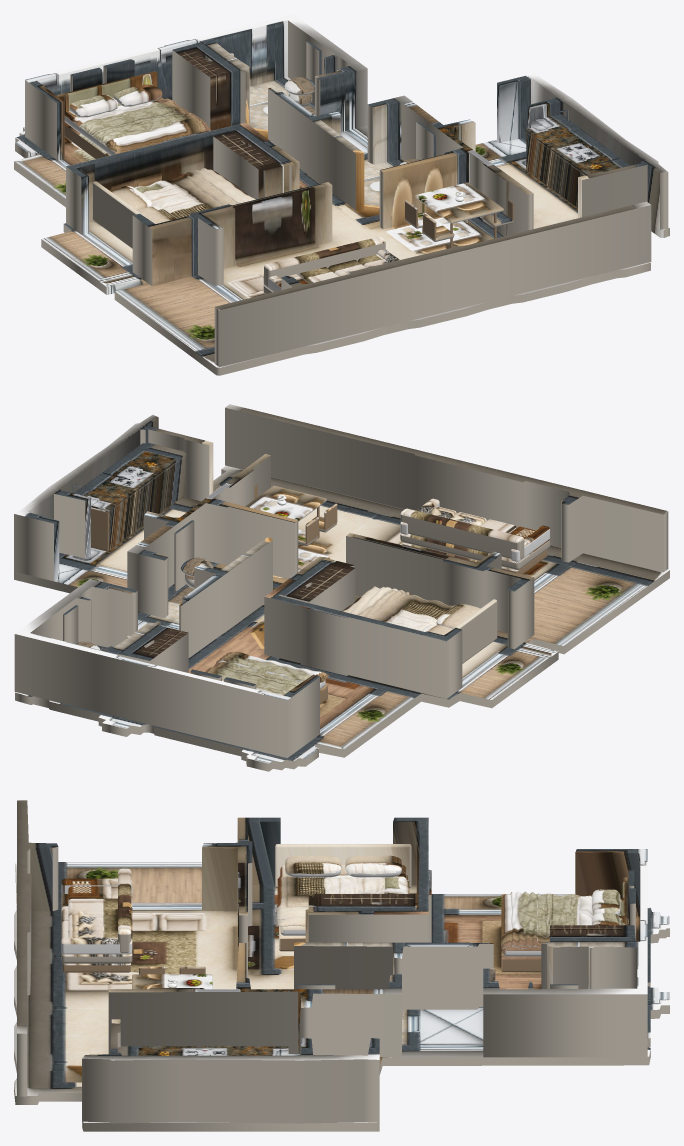
The model's file is p13-01-u01-2112-image-model.glb.
The picture shows the model from 3 angles, top to bottom: view 1: azimuth 30°, elevation 25°; view 2: azimuth 150°, elevation 25°; view 3: azimuth 270°, elevation 25°; orthographic projection. The views are drawn at different scales.
Parts seen in each view (by area): view 1: Partition walls, Apartment floor, Draped bed linen, Draped bed linen.002, Sofa back, Kitchen cabinets, Marble dining top, Stone worktop, Upholstered headboard.001, Draped bed linen.001, Upholstered headboard, Draped bed linen.003 (+6 smaller); view 2: Partition walls, Apartment floor, Kitchen cabinets, Sofa back, Stone worktop, Draped bed linen.002, Marble dining top, Draped bed linen, Upholstered headboard.001, Upholstered sofa frame, Draped bed linen.001, Draped bed linen.003 (+4 smaller); view 3: Partition walls, Apartment floor, Draped bed linen.002, Draped bed linen, Upholstered headboard.001, Stone worktop, Draped bed linen.001, Tailored pillow.002, Tailored pillow.003, Upholstered sofa frame, Sofa back, Padded armrest.001 (+10 smaller).
Part boxes in pixels (bbox=[...]): Partition walls: bbox=[25, 14, 668, 367]; Apartment floor: bbox=[14, 77, 669, 375]; Draped bed linen: bbox=[74, 98, 210, 152]; Draped bed linen.002: bbox=[134, 169, 255, 218]; Sofa back: bbox=[264, 236, 385, 286]; Kitchen cabinets: bbox=[526, 133, 584, 208]; Marble dining top: bbox=[415, 182, 503, 223]; Stone worktop: bbox=[525, 125, 630, 175]; Upholstered headboard.001: bbox=[93, 181, 148, 248]; Draped bed linen.001: bbox=[98, 112, 206, 148]; Upholstered headboard: bbox=[57, 71, 157, 112]; Draped bed linen.003: bbox=[179, 168, 249, 205]; Partition walls: bbox=[14, 404, 668, 758]; Apartment floor: bbox=[14, 465, 669, 771]; Kitchen cabinets: bbox=[91, 456, 185, 551]; Sofa back: bbox=[400, 508, 524, 559]; Stone worktop: bbox=[81, 443, 186, 511]; Draped bed linen.002: bbox=[341, 586, 455, 630]; Marble dining top: bbox=[245, 485, 326, 521]; Draped bed linen: bbox=[205, 652, 329, 695]; Upholstered headboard.001: bbox=[449, 599, 497, 663]; Upholstered sofa frame: bbox=[400, 533, 550, 570]; Draped bed linen.001: bbox=[216, 651, 325, 682]; Draped bed linen.003: bbox=[346, 586, 410, 618]; Partition walls: bbox=[17, 800, 647, 1123]; Apartment floor: bbox=[14, 862, 669, 1131]; Draped bed linen.002: bbox=[277, 876, 409, 926]; Draped bed linen: bbox=[501, 893, 592, 948]; Upholstered headboard.001: bbox=[275, 844, 411, 887]; Stone worktop: bbox=[117, 1046, 288, 1055]; Draped bed linen.001: bbox=[510, 891, 538, 947]; Tailored pillow.002: bbox=[285, 855, 341, 877]; Tailored pillow.003: bbox=[345, 855, 401, 877]; Upholstered sofa frame: bbox=[61, 894, 132, 963]; Sofa back: bbox=[118, 868, 131, 952]; Padded armrest.001: bbox=[61, 937, 132, 954].
Size of the model in its own units: 10.15 by 1.3 by 10.76.
13 materials, 3 textured.
